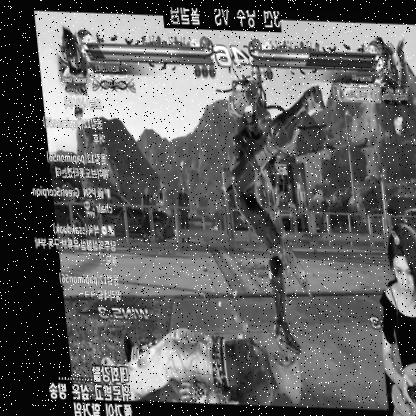streamer: (363, 217, 416, 416)
